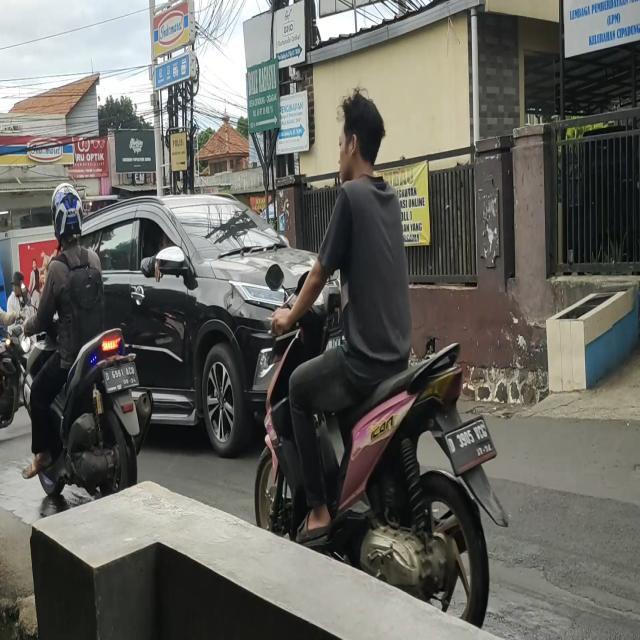helmet: (52, 186, 84, 249)
no-helmet: (339, 98, 380, 182)
